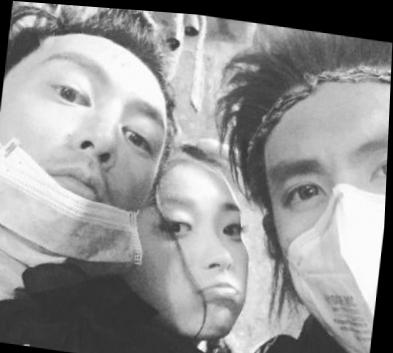NONE: (134, 190, 259, 340)
OK: (244, 75, 391, 353)
WRONG: (1, 45, 175, 262)
